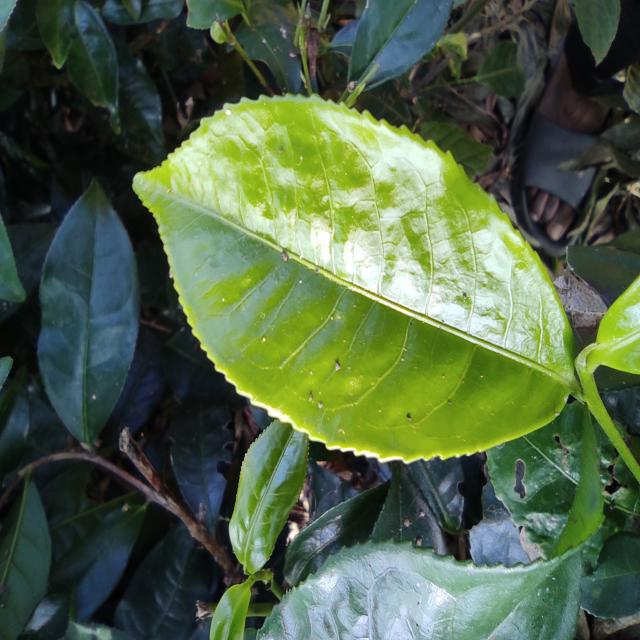Category B 2-4 days: (122, 84, 581, 465)
